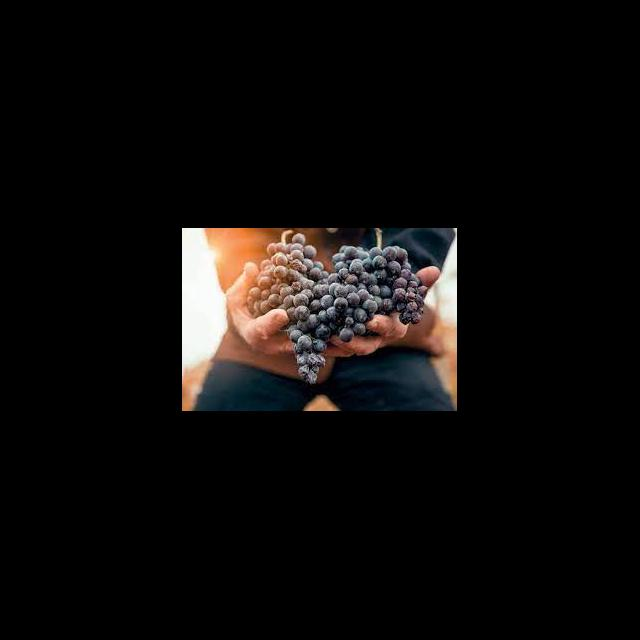grape: (246, 230, 428, 384)
